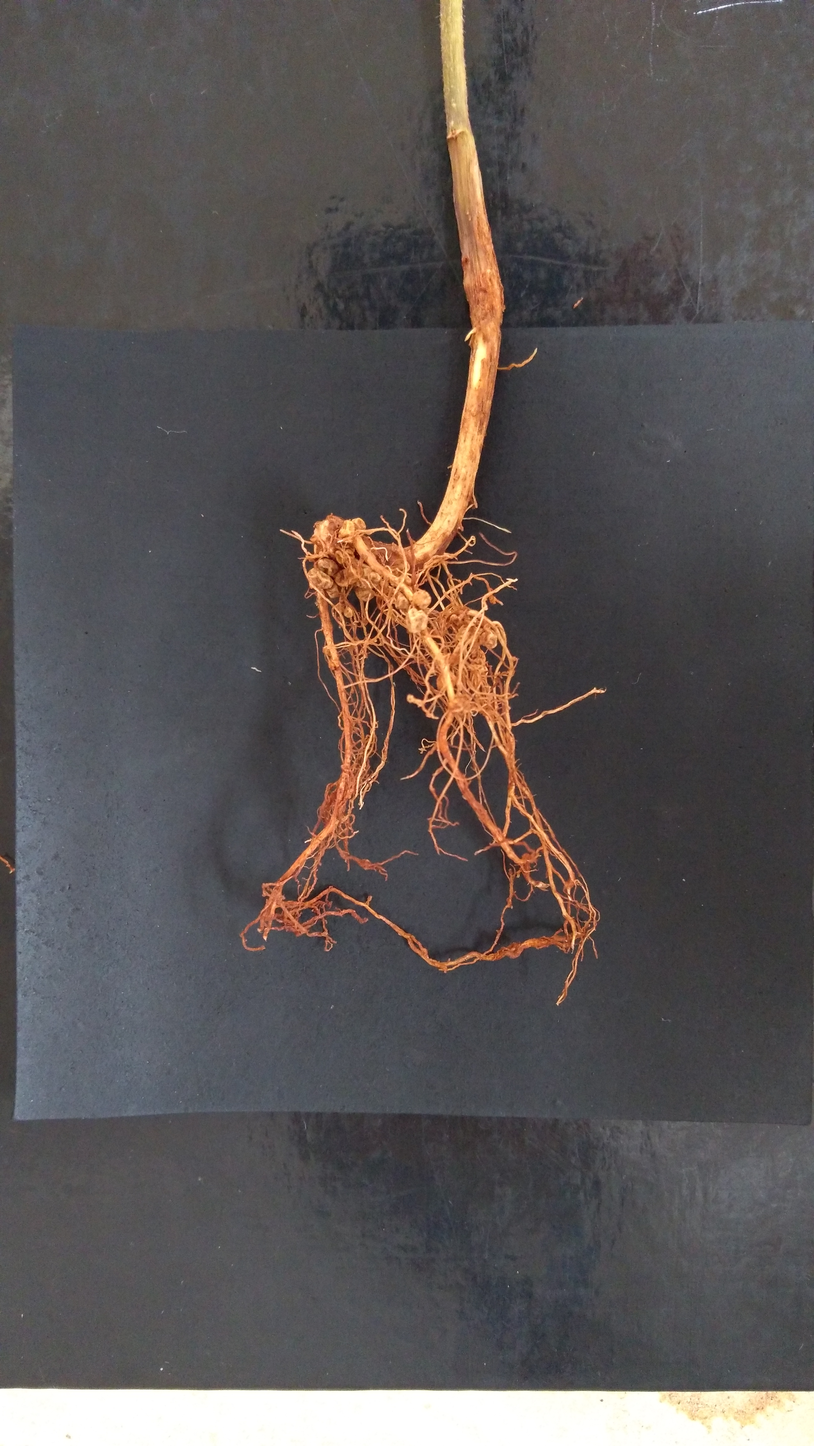nodule: (310, 516, 341, 556), (468, 647, 488, 686), (331, 563, 364, 586), (337, 517, 366, 541), (405, 607, 429, 633), (306, 567, 333, 589), (356, 567, 381, 589), (454, 625, 484, 643), (447, 697, 472, 716), (322, 645, 340, 671), (449, 613, 479, 628), (314, 558, 339, 576), (437, 669, 457, 691), (478, 627, 498, 649), (412, 589, 432, 610), (353, 583, 375, 601), (325, 580, 346, 598), (335, 548, 356, 564), (506, 942, 523, 959), (341, 780, 353, 800), (395, 593, 410, 609), (563, 871, 575, 889), (376, 578, 390, 593), (521, 852, 538, 864), (398, 574, 412, 586), (343, 606, 355, 618), (335, 600, 346, 612), (341, 763, 351, 774), (487, 594, 497, 605), (458, 524, 464, 532), (512, 656, 518, 662), (457, 578, 462, 584)
